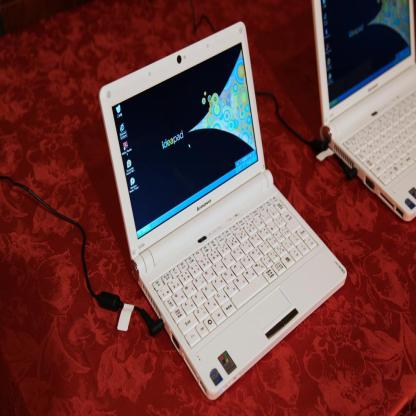board: (96, 20, 348, 399), (311, 0, 416, 222)
